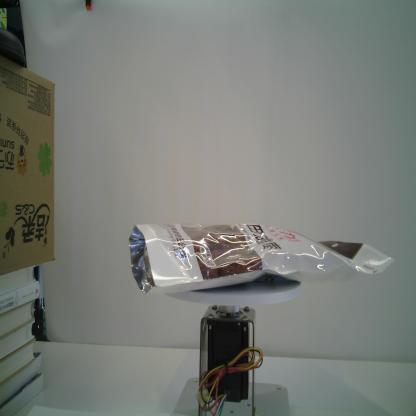Dried Food: (126, 219, 396, 296)
